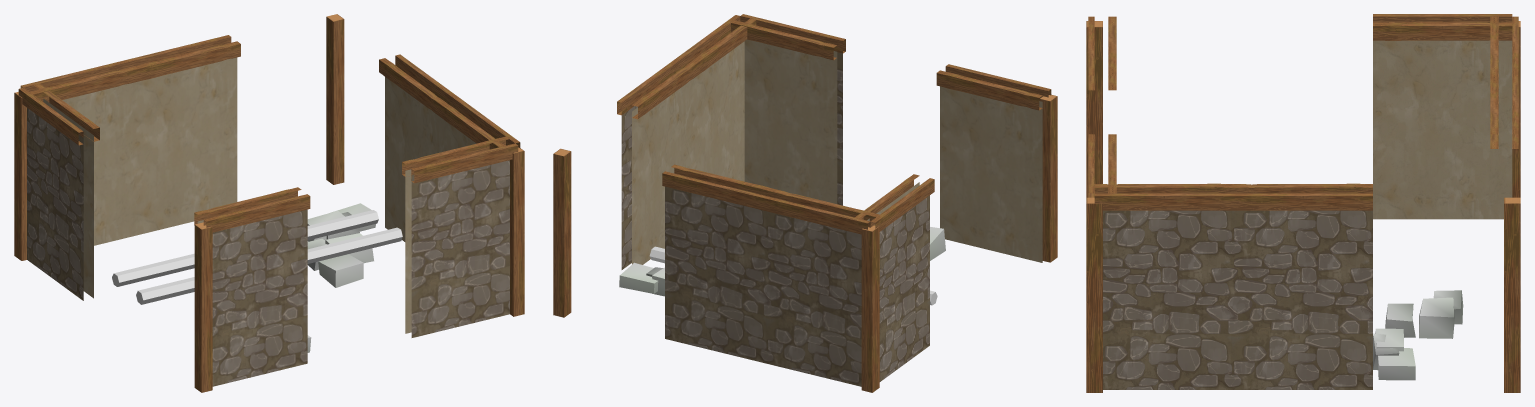
File: fx_ruined_cottage.gltf
3 renders of one model, left to right at view 1: azimuth 30°, elevation 25°; view 2: azimuth 150°, elevation 25°; view 3: azimuth 270°, elevation 25°, orthographic. The views are drawn at different scales.
Visible parts, largest first — view 1: T1_KitWallUnevenBrickStraight002, T1_KitWallUnevenBrickStraight003, T1_KitWallUnevenBrickStraight001, T1_KitWallUnevenBrickStraight005, T1_KitWallUnevenBrickStraight004, T1_KitWallUnevenBrickStraight007, T1_KitCornerExteriorWood010, T1_KitCornerExteriorWood008, T1_KitCornerExteriorWood009, T1_FallenBeam027, T1_FallenBeam026, T1_KitWallUnevenBrickStraight006 (+2 smaller); view 2: T1_KitWallUnevenBrickStraight003, T1_KitWallUnevenBrickStraight001, T1_KitWallUnevenBrickStraight004, T1_KitWallUnevenBrickStraight002, T1_KitWallUnevenBrickStraight007, T1_KitWallUnevenBrickStraight005, T1_KitWallUnevenBrickStraight006, T1_KitCornerExteriorWood010, T1_KitCornerExteriorWood011, T1_KitCornerExteriorWood008, T1_Rubble015, T1_Rubble021; view 3: T1_KitWallUnevenBrickStraight007, T1_KitWallUnevenBrickStraight005, T1_KitWallUnevenBrickStraight006, T1_KitCornerExteriorWood010, T1_KitCornerExteriorWood009, T1_KitCornerExteriorWood008, T1_Rubble023, T1_KitWallUnevenBrickStraight001, T1_KitWallUnevenBrickStraight003, T1_Rubble015, T1_KitWallUnevenBrickStraight002, T1_KitWallUnevenBrickStraight004 (+5 smaller).
Part boxes in pixels (bbox=[...]): T1_KitWallUnevenBrickStraight002: bbox=[402, 136, 518, 337]; T1_KitWallUnevenBrickStraight003: bbox=[125, 35, 240, 235]; T1_KitWallUnevenBrickStraight001: bbox=[194, 187, 310, 386]; T1_KitWallUnevenBrickStraight005: bbox=[18, 83, 99, 300]; T1_KitWallUnevenBrickStraight004: bbox=[20, 60, 136, 245]; T1_KitWallUnevenBrickStraight007: bbox=[379, 54, 459, 241]; T1_KitCornerExteriorWood010: bbox=[326, 14, 344, 184]; T1_KitCornerExteriorWood008: bbox=[194, 222, 212, 392]; T1_KitCornerExteriorWood009: bbox=[510, 147, 524, 316]; T1_FallenBeam027: bbox=[136, 227, 402, 304]; T1_FallenBeam026: bbox=[112, 210, 378, 286]; T1_KitWallUnevenBrickStraight006: bbox=[439, 98, 520, 151]; T1_KitWallUnevenBrickStraight003: bbox=[662, 164, 777, 363]; T1_KitWallUnevenBrickStraight001: bbox=[936, 64, 1051, 262]; T1_KitWallUnevenBrickStraight004: bbox=[765, 189, 879, 386]; T1_KitWallUnevenBrickStraight002: bbox=[731, 14, 845, 205]; T1_KitWallUnevenBrickStraight007: bbox=[617, 58, 696, 269]; T1_KitWallUnevenBrickStraight005: bbox=[855, 174, 934, 381]; T1_KitWallUnevenBrickStraight006: bbox=[676, 15, 756, 181]; T1_KitCornerExteriorWood010: bbox=[553, 148, 571, 317]; T1_KitCornerExteriorWood011: bbox=[861, 225, 879, 392]; T1_KitCornerExteriorWood008: bbox=[1039, 94, 1057, 262]; T1_Rubble015: bbox=[619, 262, 658, 293]; T1_Rubble021: bbox=[930, 227, 945, 260]; T1_KitWallUnevenBrickStraight007: bbox=[1234, 183, 1372, 389]; T1_KitWallUnevenBrickStraight005: bbox=[1373, 14, 1512, 219]; T1_KitWallUnevenBrickStraight006: bbox=[1094, 183, 1233, 389]; T1_KitCornerExteriorWood010: bbox=[1504, 197, 1520, 392]; T1_KitCornerExteriorWood009: bbox=[1086, 197, 1102, 392]; T1_KitCornerExteriorWood008: bbox=[1086, 21, 1102, 197]; T1_Rubble023: bbox=[1419, 297, 1454, 338]; T1_KitWallUnevenBrickStraight001: bbox=[1088, 16, 1116, 90]; T1_KitWallUnevenBrickStraight003: bbox=[1490, 75, 1518, 148]; T1_Rubble015: bbox=[1378, 348, 1415, 380]; T1_KitWallUnevenBrickStraight002: bbox=[1088, 134, 1116, 197]; T1_KitWallUnevenBrickStraight004: bbox=[1490, 16, 1518, 75].
Bounding box in the file's own units: 6.21 × 3.24 × 6.24.
4 materials, 4 textured.
